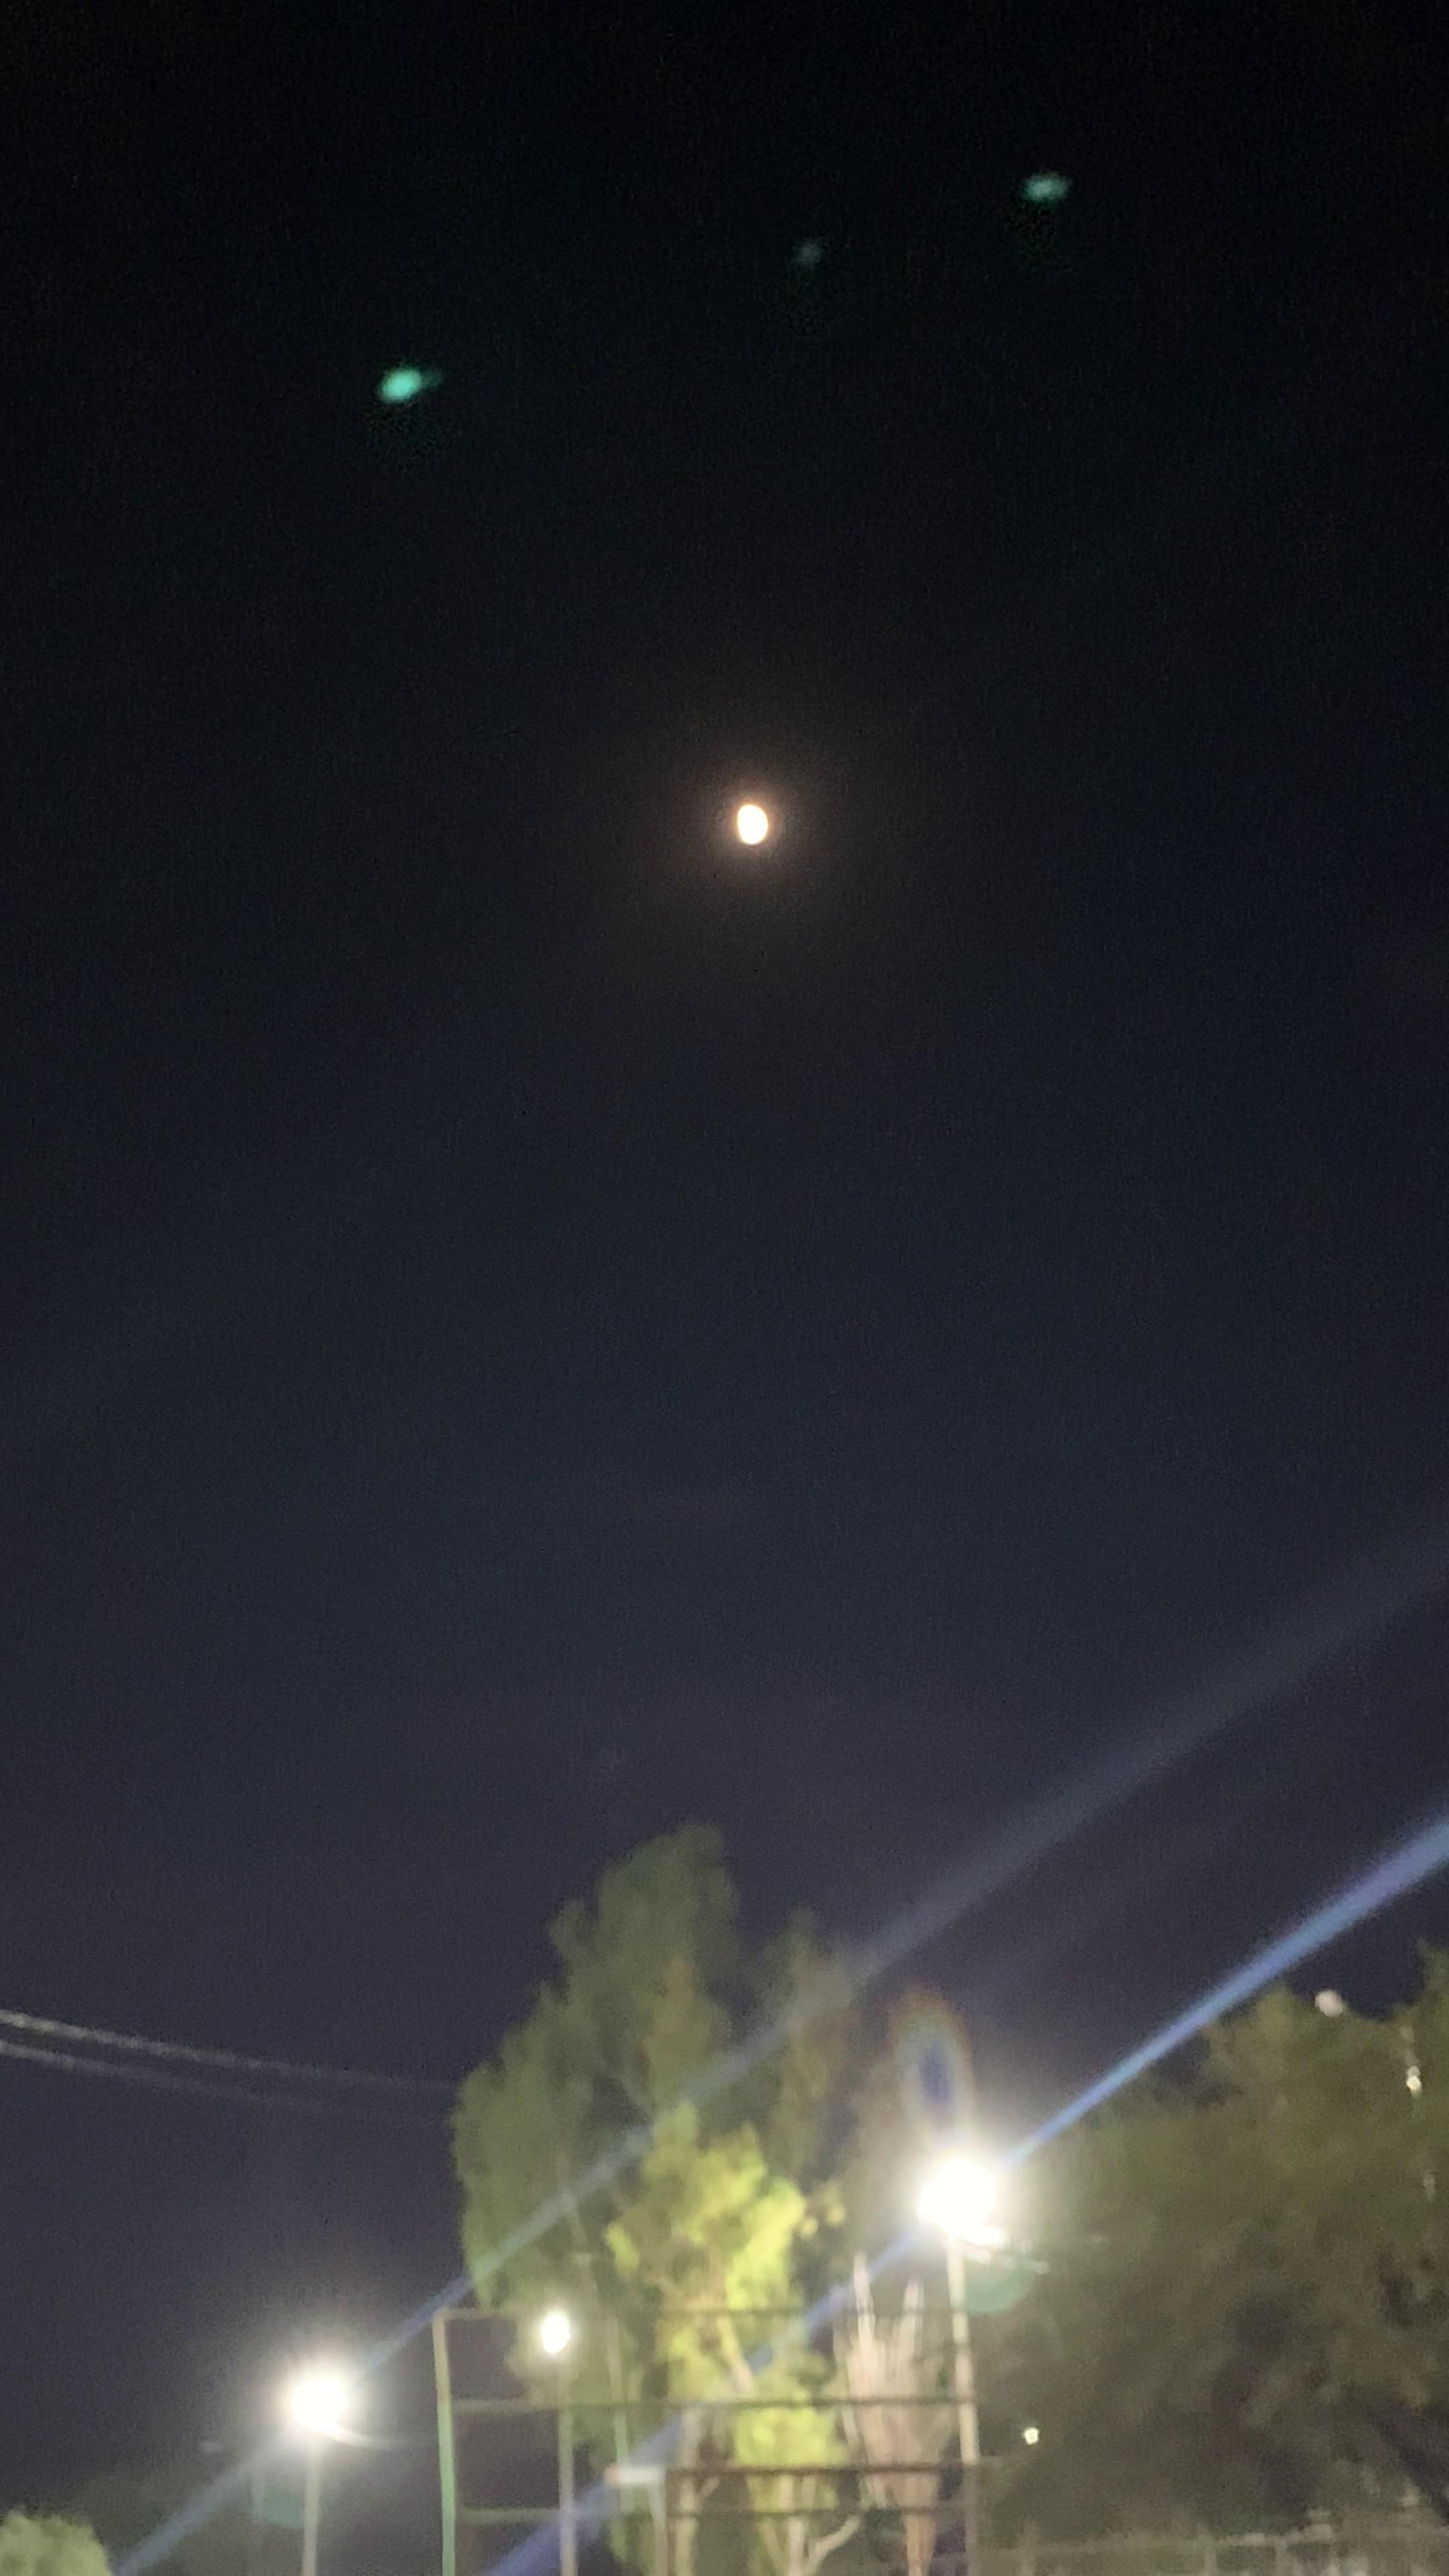moon: (686, 837, 814, 950)
